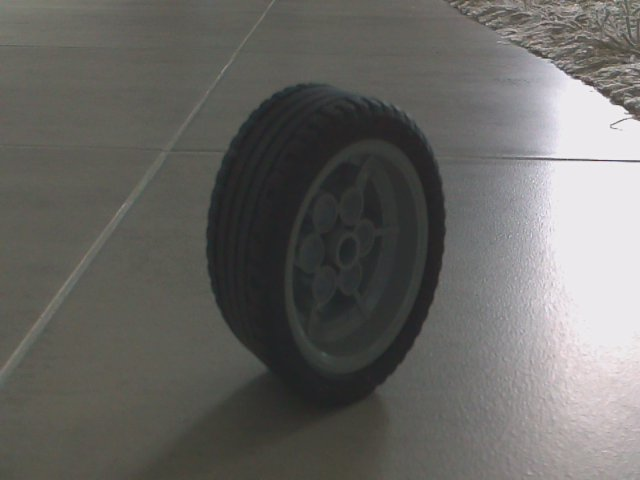Rad: (198, 74, 454, 404)
